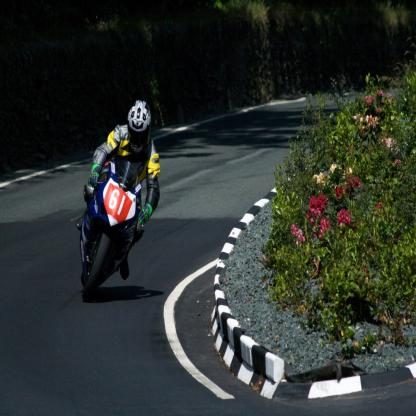Helmet: (122, 99, 152, 153)
